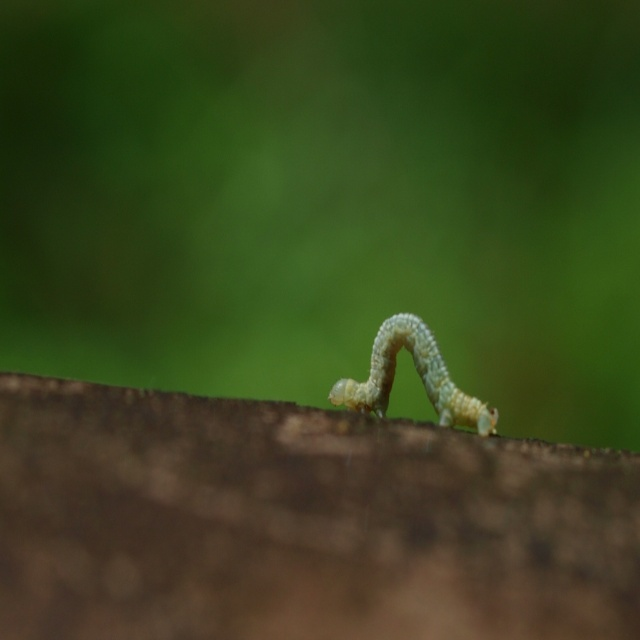Caterpillar: (328, 311, 498, 436)
